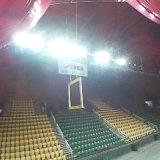Yellow_Square_GShape: (69, 78, 85, 110)
